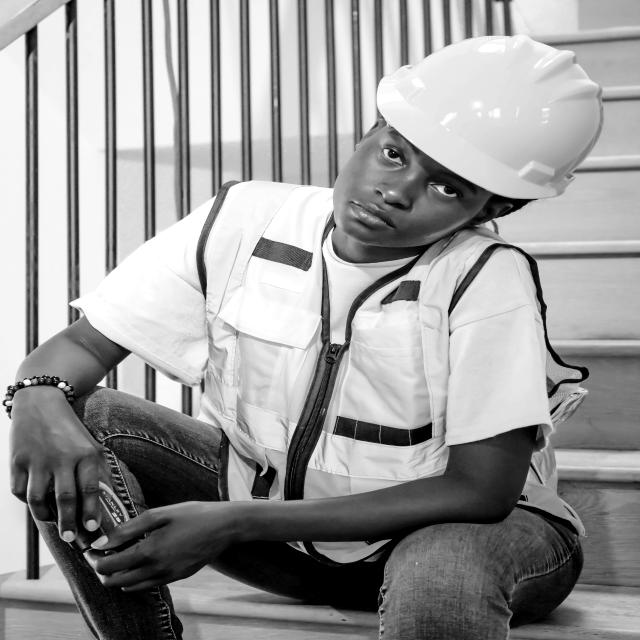Vest: (201, 182, 607, 566)
